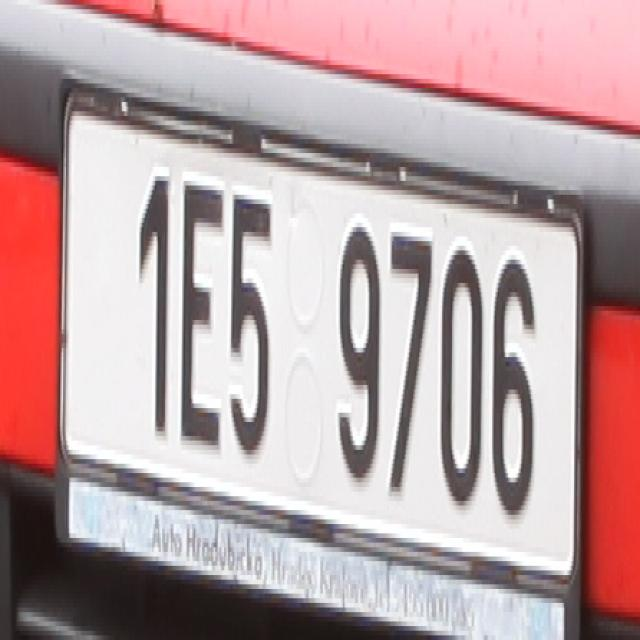0: (439, 246, 479, 510)
1: (138, 167, 168, 427)
5: (228, 181, 271, 454)
6: (492, 246, 535, 515)
7: (383, 227, 431, 501)
9: (334, 218, 380, 473)
E: (176, 176, 221, 455)
